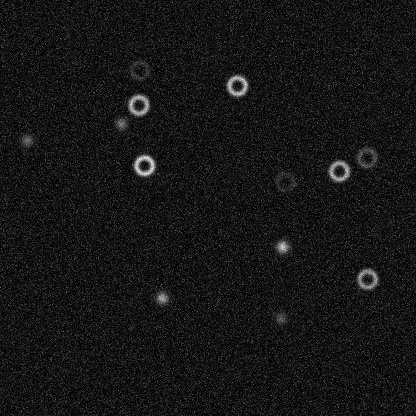Ring: (132, 153, 156, 177), (127, 58, 151, 82), (273, 169, 297, 193), (354, 145, 378, 169), (355, 267, 379, 291), (225, 73, 249, 97), (126, 92, 150, 116), (326, 158, 350, 182)
Spot: (19, 132, 35, 148), (153, 289, 169, 305), (274, 238, 290, 254), (113, 115, 129, 131), (272, 310, 288, 326)
